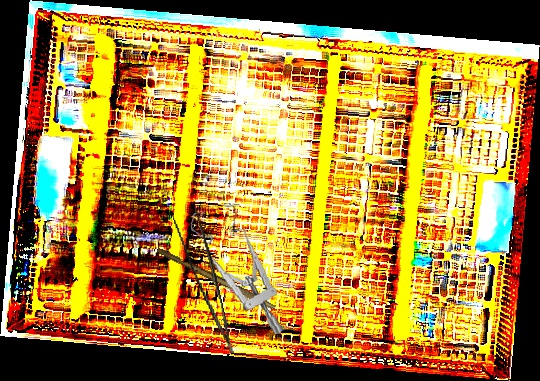Scalpel Handle: (155, 246, 278, 311)
Speculum: (188, 198, 284, 343)
Tissue Forceps: (171, 202, 234, 360)
